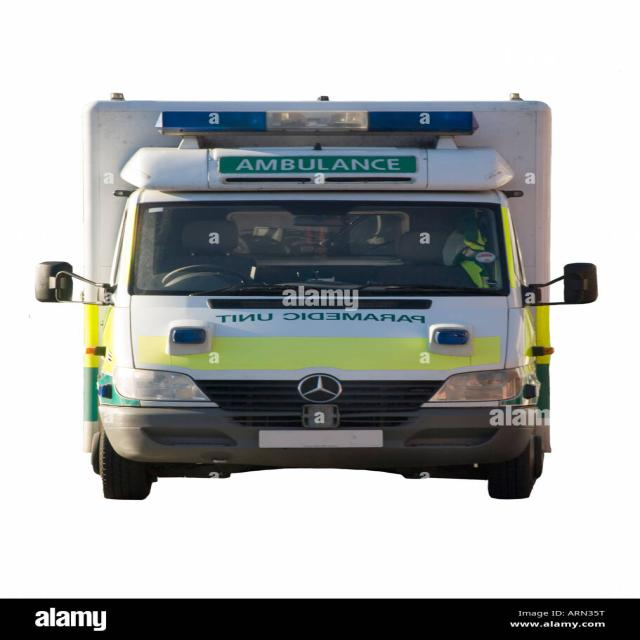Ambulance: (30, 80, 610, 518)
